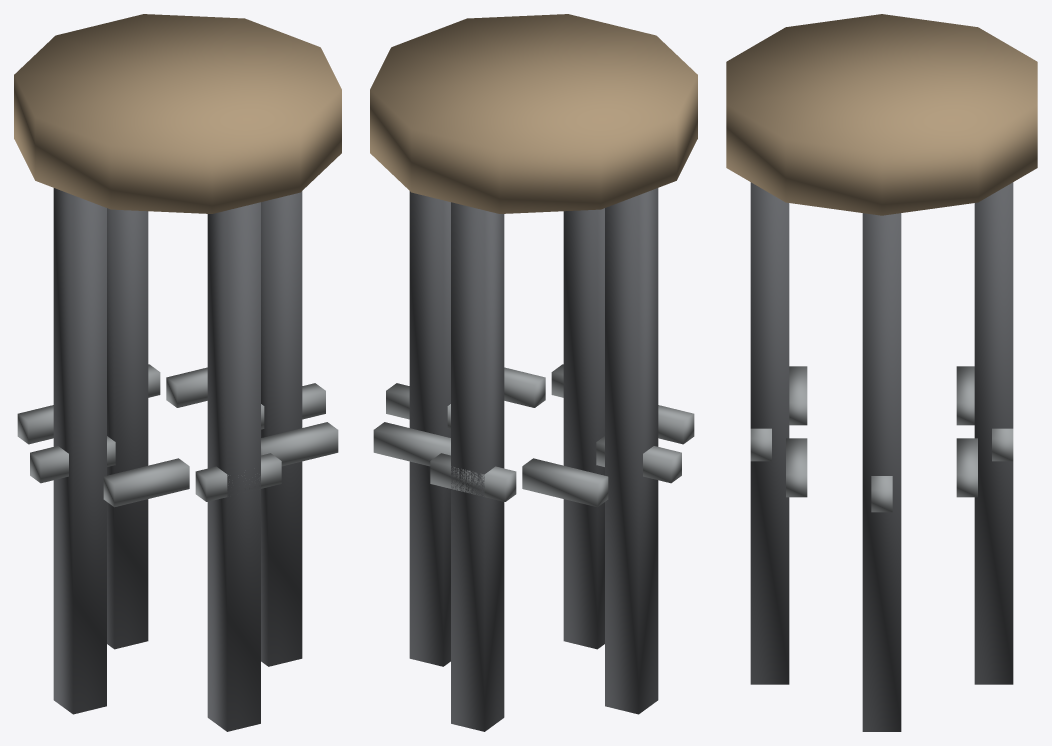
The model's file is counter_stool__tall.glb.
3 renders of one model, left to right at view 1: azimuth 30°, elevation 25°; view 2: azimuth 150°, elevation 25°; view 3: azimuth 270°, elevation 25°, orthographic.
Parts seen in each view (by area): view 1: world; view 2: world; view 3: world.
Part boxes in pixels (x1,y1,x2,y2): world: (14, 14, 341, 731); world: (370, 14, 697, 731); world: (726, 14, 1037, 731).
Size of the model in its own units: 0.38 by 0.7598 by 0.3614.
